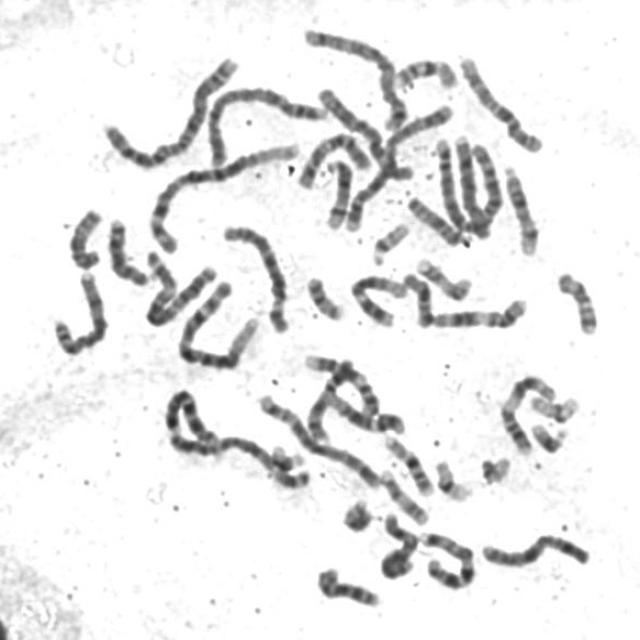A1: (144, 136, 303, 256), (172, 272, 264, 372)
A2: (98, 48, 245, 171), (434, 130, 505, 237)
A3: (169, 431, 313, 489), (140, 243, 220, 329)
B4: (341, 103, 460, 236), (200, 78, 334, 167)
B5: (253, 386, 384, 492), (298, 21, 412, 132)
C10: (453, 48, 547, 155), (291, 125, 374, 192)
C11: (495, 368, 560, 456), (418, 289, 532, 330)
C12: (323, 386, 409, 436), (346, 266, 413, 330)
C6: (313, 80, 416, 183), (216, 217, 293, 336)
C7: (163, 387, 223, 461), (415, 524, 480, 591)
C8: (46, 268, 112, 360), (450, 133, 493, 243)
C9: (300, 347, 384, 418), (301, 352, 358, 444)
D13: (102, 211, 157, 288), (317, 568, 382, 608)
D14: (498, 157, 544, 257), (318, 152, 356, 232)
D15: (402, 189, 470, 247), (62, 201, 106, 272)
E16: (379, 428, 438, 497), (389, 51, 462, 92)
E17: (374, 462, 432, 526), (410, 250, 476, 302)
E18: (551, 264, 603, 336), (397, 265, 436, 328)
F19: (429, 452, 476, 503), (525, 388, 584, 424)
F20: (301, 268, 348, 322), (342, 500, 374, 533)
G21: (525, 415, 572, 456), (268, 442, 306, 473)
G22: (366, 216, 412, 266), (475, 449, 515, 486)
X: (475, 528, 595, 573), (378, 507, 423, 581)
